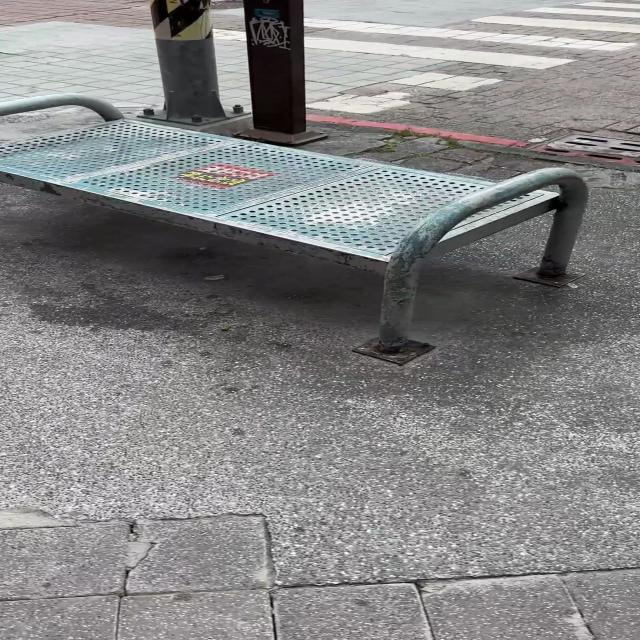chair: (0, 94, 587, 364)
